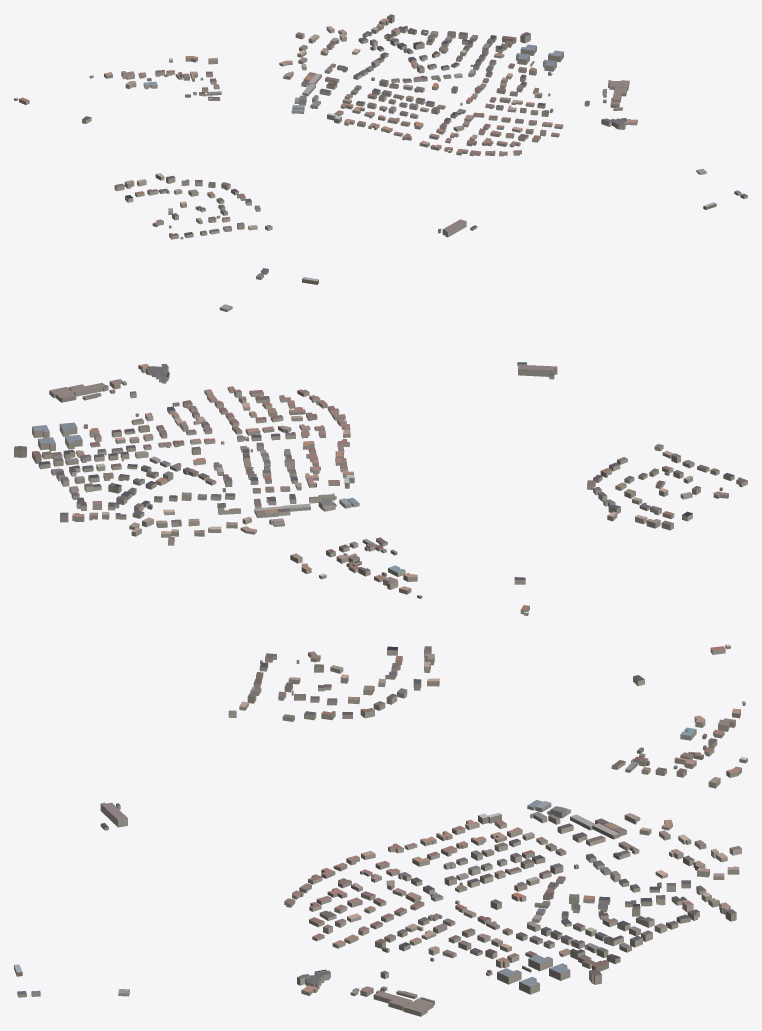
3 views of the same model, one above another, from view 1: azimuth 30°, elevation 25°; view 2: azimuth 150°, elevation 25°; view 3: azimuth 270°, elevation 25° (orthographic). The views are drawn at different scales.
Visible parts, largest first — view 1: tuile; view 2: tuile; view 3: tuile.
Part boxes in pixels (box(x1,y1,x2,y2)): tuile: box(14, 14, 747, 239); tuile: box(14, 268, 747, 615); tuile: box(14, 644, 747, 1016).
Size of the model in its own units: 1024 by 51.62 by 920.
